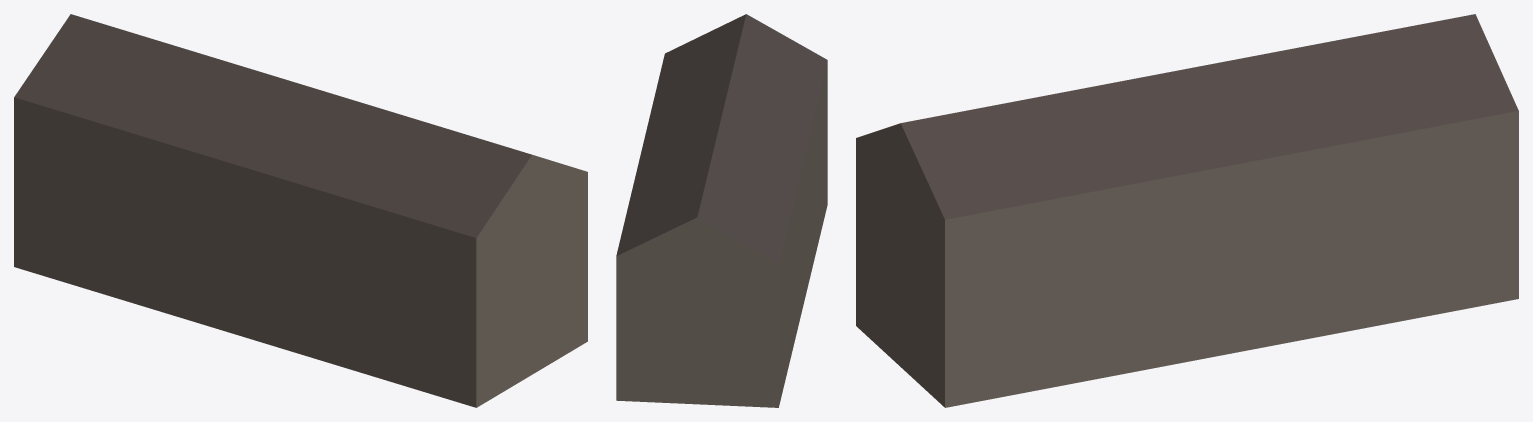
3 views of the same model, side by side, from view 1: azimuth 30°, elevation 25°; view 2: azimuth 150°, elevation 25°; view 3: azimuth 270°, elevation 25° (orthographic). The views are drawn at different scales.
Parts seen in each view (by area): view 1: HP-w1200772467; view 2: HP-w1200772467; view 3: HP-w1200772467.
Boxes of the visible parts, x1=… form: HP-w1200772467: x1=14, y1=14, x2=587, y2=407; HP-w1200772467: x1=616, y1=14, x2=827, y2=407; HP-w1200772467: x1=856, y1=14, x2=1518, y2=407.
Size of the model in its own units: 19.63 by 11.67 by 28.74.
